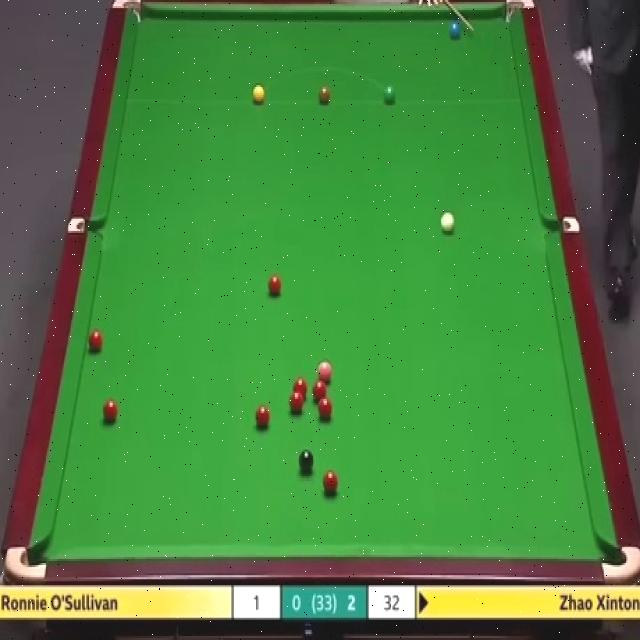black-ball: (299, 450, 316, 473)
blue-ball: (449, 21, 464, 38)
brown-ball: (318, 85, 332, 105)
green-ball: (382, 85, 397, 107)
pink-ball: (317, 358, 332, 383)
red-ball: (255, 404, 271, 431), (88, 330, 106, 354), (102, 399, 119, 424), (317, 395, 333, 420), (323, 470, 339, 494), (311, 379, 326, 402), (267, 275, 282, 298), (294, 377, 308, 400), (289, 392, 304, 413)
white-ball: (440, 209, 454, 236)
yellow-ball: (251, 84, 266, 105)
